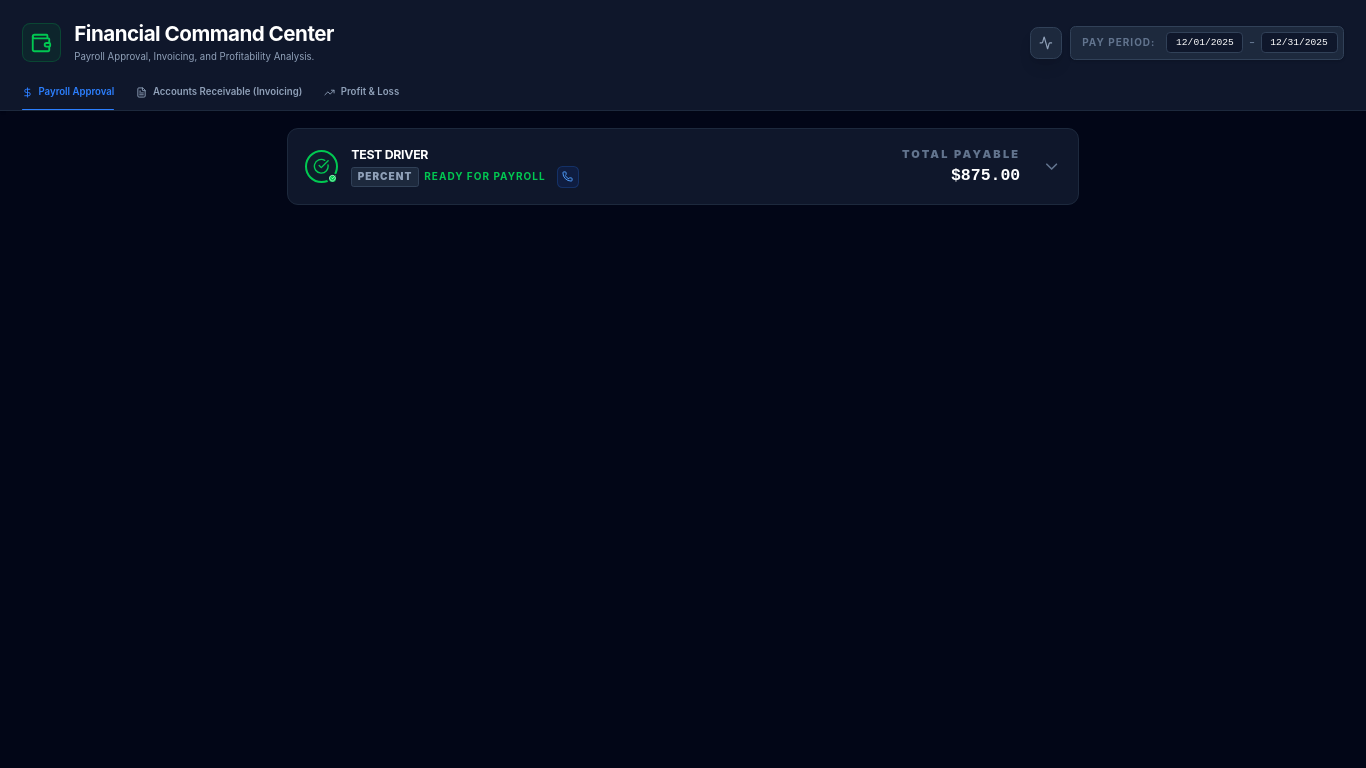
Scenario: Settlements component › expands driver card on click and shows financial breakdown
This screenshot has width=1366, height=768.
Click the driver card to expand
Click the heading "Test Driver".
click(390, 154)  # box top-left (351, 147), bottom-right (428, 162)
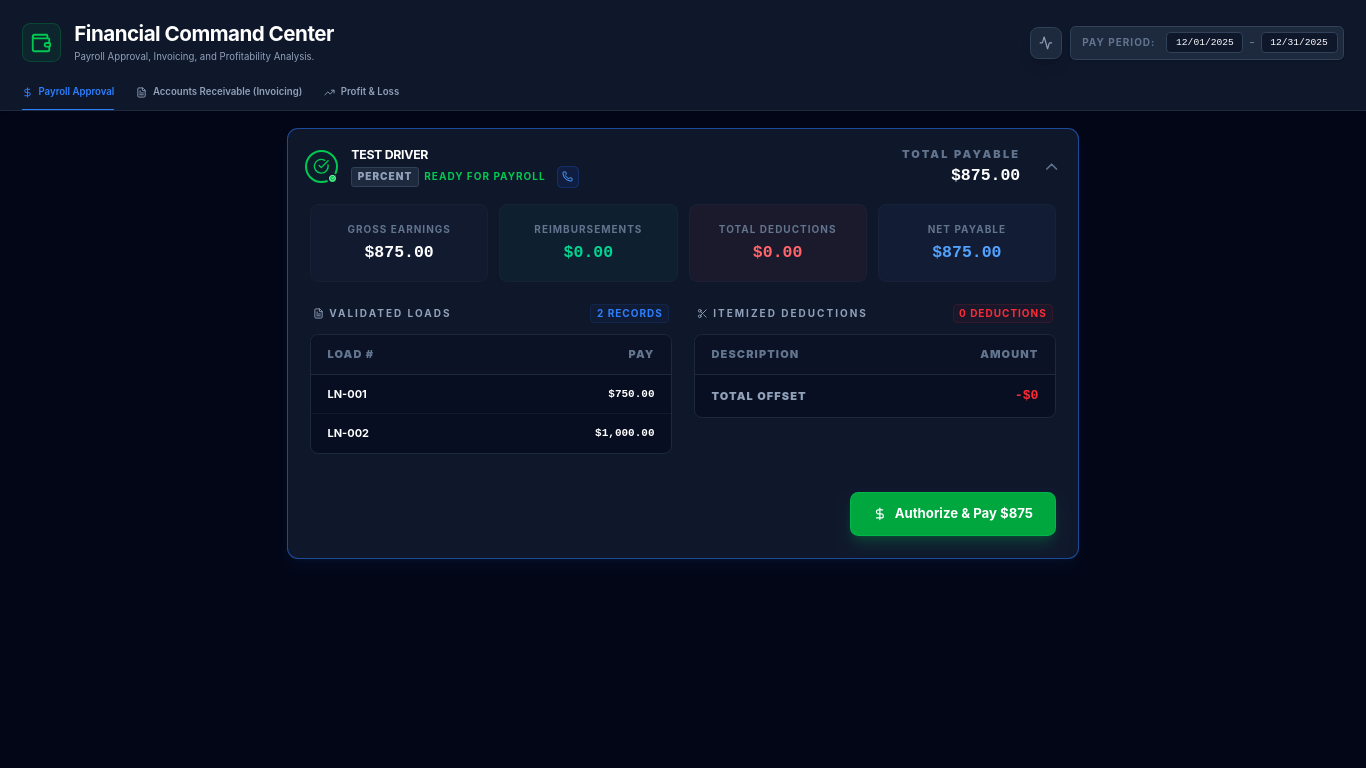
Expected: the text "Gross Earnings" is shown, top-left (347, 222), bottom-right (451, 237)
Expected: the text "Reimbursements" is shown, top-left (534, 222), bottom-right (642, 237)
Expected: the text "Total Deductions" is shown, top-left (719, 222), bottom-right (836, 237)
